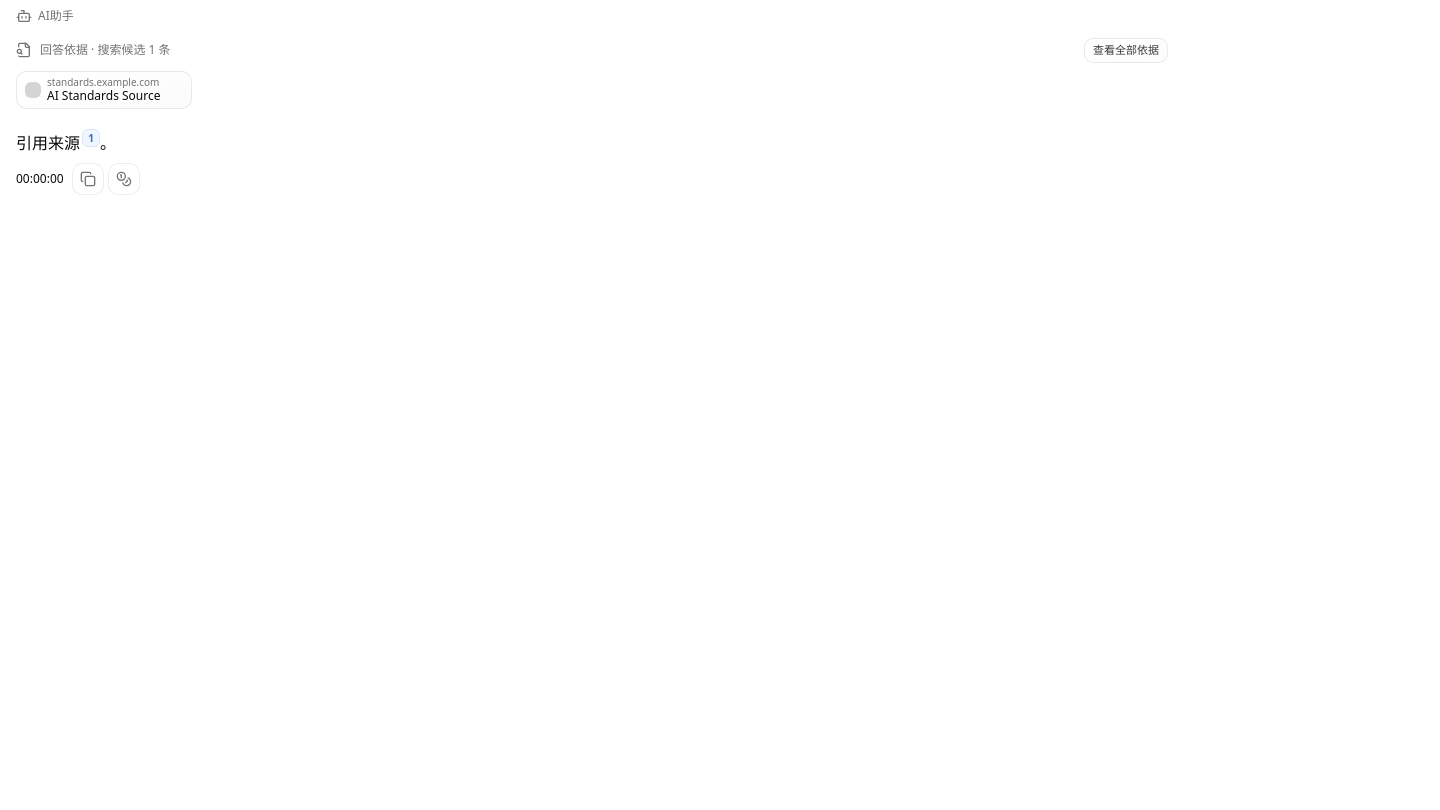
ChatMessage › 正文 Markdown 引用仍能打开来源侧栏
This screenshot has width=1440, height=810.
Click the button named "查看参考资料 1：AI Standards Source": [91, 138] box x1=82 y1=129 x2=100 y2=147
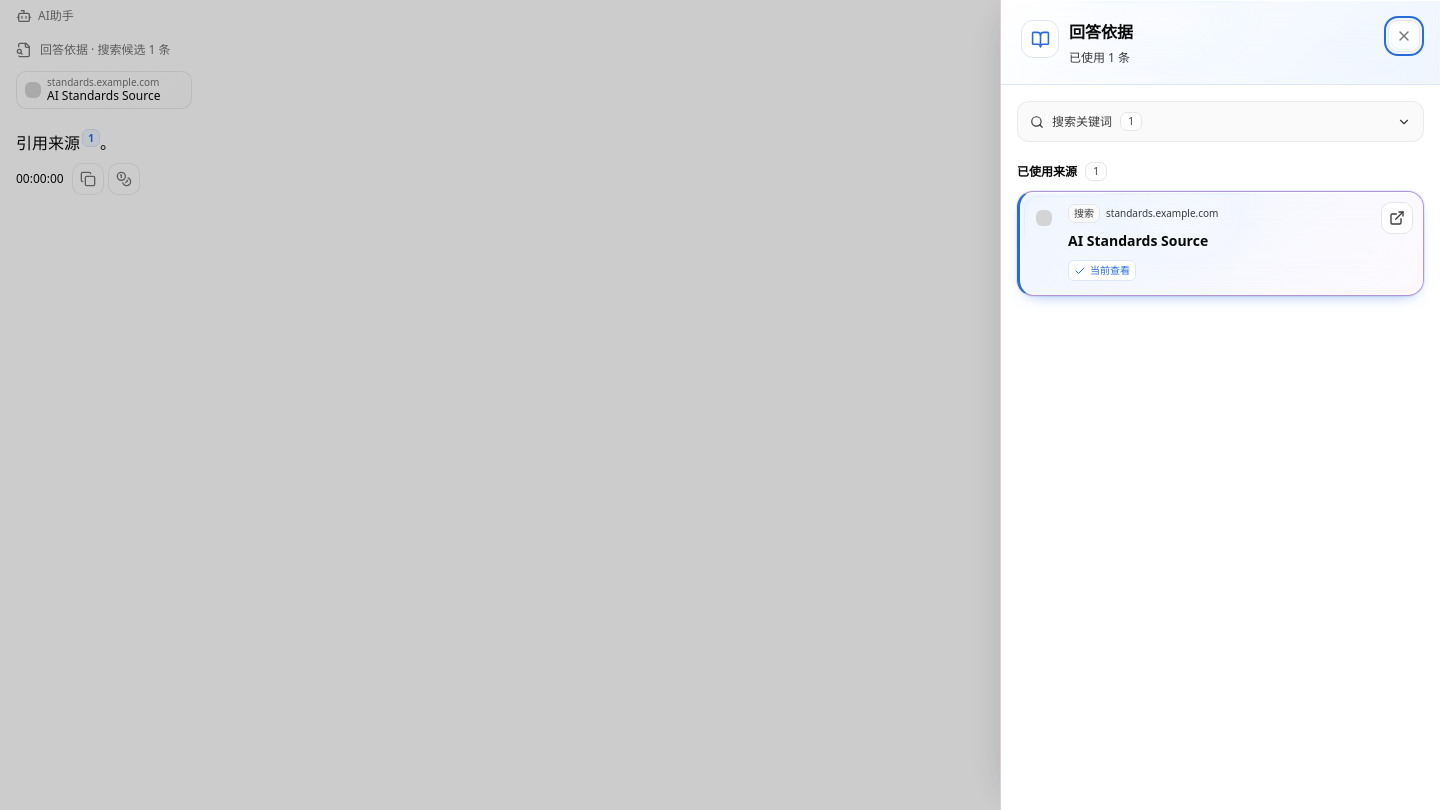
Expected: the heading "回答依据" is shown, x1=1069 y1=20 x2=1133 y2=44
